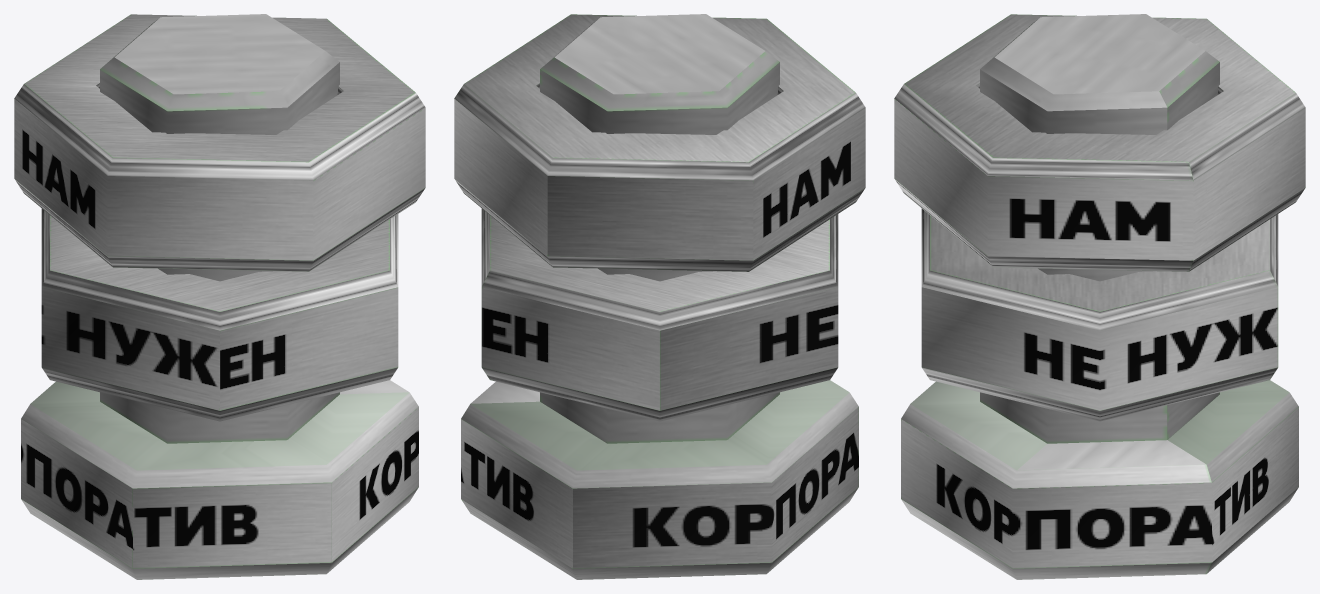
Rendered from corporativ.fbx.
3 renders of one model, left to right at view 1: azimuth 30°, elevation 25°; view 2: azimuth 150°, elevation 25°; view 3: azimuth 270°, elevation 25°, orthographic.
Parts seen in each view (by area): view 1: Torus_6; view 2: Torus_6; view 3: Torus_6.
Boxes of the visible parts, bbox=[...] form: Torus_6: bbox=[14, 14, 425, 579]; Torus_6: bbox=[454, 14, 865, 579]; Torus_6: bbox=[894, 14, 1305, 579].
Size of the model in its own units: 53.08 by 64.47 by 53.01.
Materials: 1 (1 with a texture image).
